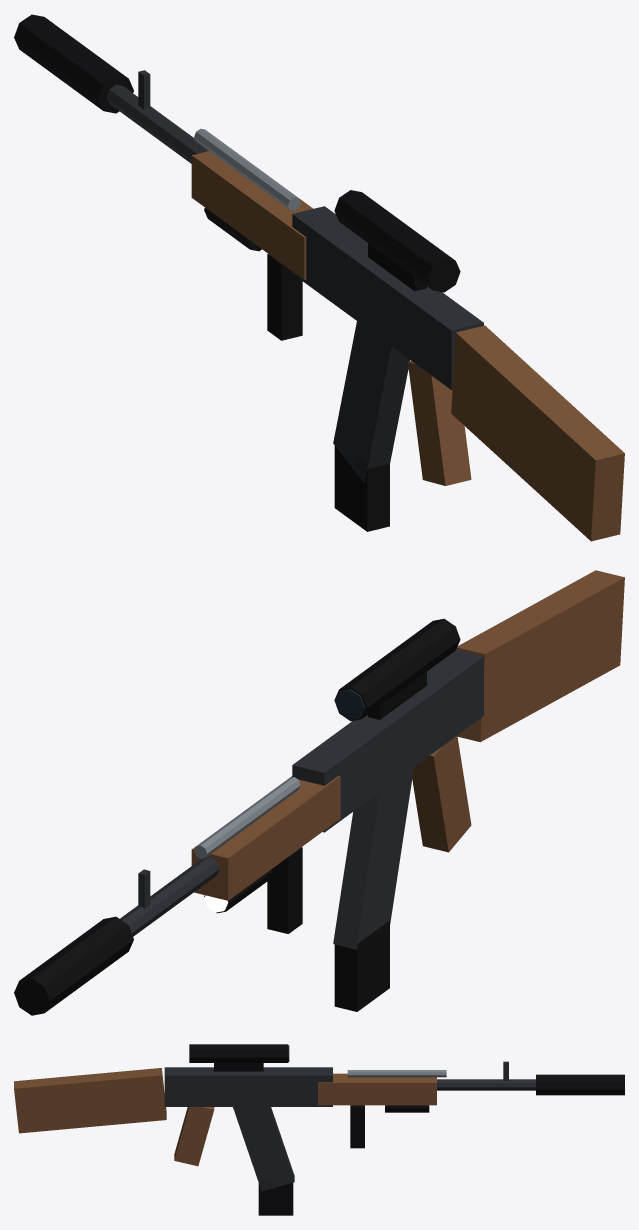
Rendered from rifle.glb.
3 renders of one model, top to bottom at view 1: azimuth 30°, elevation 25°; view 2: azimuth 150°, elevation 25°; view 3: azimuth 270°, elevation 25°, orthographic. The views are drawn at different scales.
Visible parts, largest first — view 1: rifle_Body, rifle_Att_Scope, rifle_Att_Suppressor, rifle_Att_ExtMag, rifle_Att_Grip; view 2: rifle_Body, rifle_Att_Scope, rifle_Att_Suppressor, rifle_Att_ExtMag, rifle_Att_Grip, rifle_Att_Flashlight; view 3: rifle_Body, rifle_Att_Scope, rifle_Att_Suppressor, rifle_Att_ExtMag, rifle_Att_Grip, rifle_Att_Flashlight.
Boxes of the visible parts, x1,y1,x2,y2 form: rifle_Body: (106,70,624,541); rifle_Att_Scope: (334,190,460,292); rifle_Att_Suppressor: (14,14,133,113); rifle_Att_ExtMag: (334,446,389,531); rifle_Att_Grip: (267,254,302,340); rifle_Body: (120,570,624,949); rifle_Att_Scope: (334,618,460,721); rifle_Att_Suppressor: (14,916,133,1015); rifle_Att_ExtMag: (334,920,389,1011); rifle_Att_Grip: (267,847,302,933); rifle_Att_Flashlight: (204,869,271,913); rifle_Body: (14,1061,535,1191); rifle_Att_Scope: (189,1044,289,1071); rifle_Att_Suppressor: (536,1074,624,1095); rifle_Att_ExtMag: (258,1180,293,1215); rifle_Att_Grip: (350,1105,364,1148); rifle_Att_Flashlight: (385,1105,430,1112).
Bounding box in the file's own units: 0.045 × 0.375 × 1.23.
